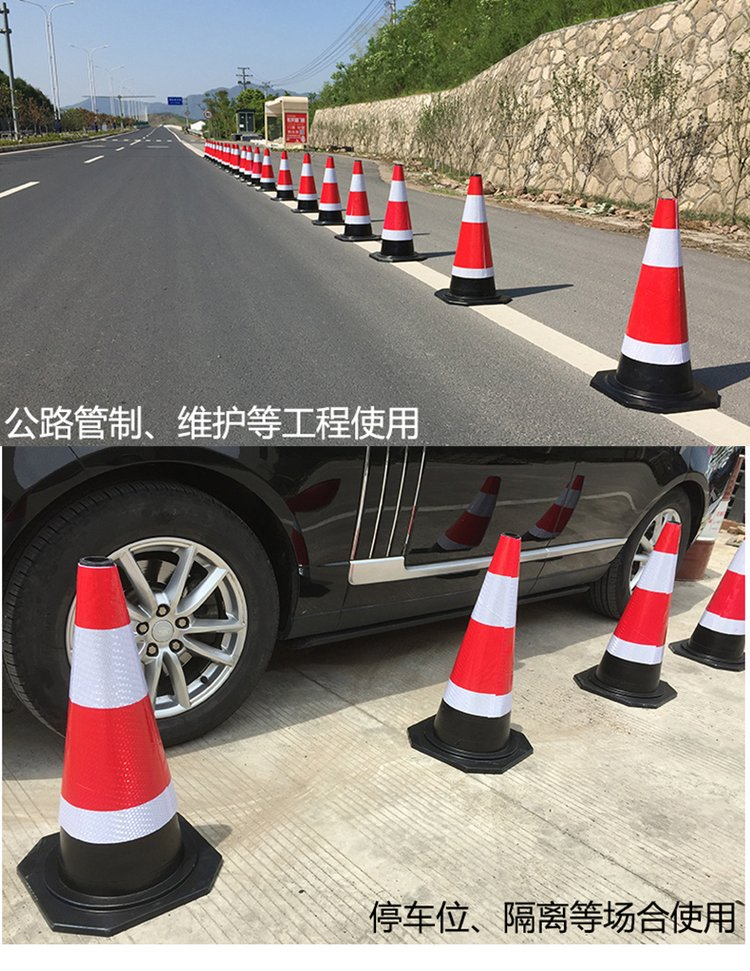traffic_cone: (18, 536, 253, 947), (356, 511, 562, 775), (601, 164, 741, 419), (589, 495, 694, 719), (423, 154, 536, 315), (372, 149, 427, 269), (343, 145, 386, 251), (317, 130, 358, 223), (290, 142, 328, 237), (263, 132, 296, 209), (245, 134, 265, 184)
